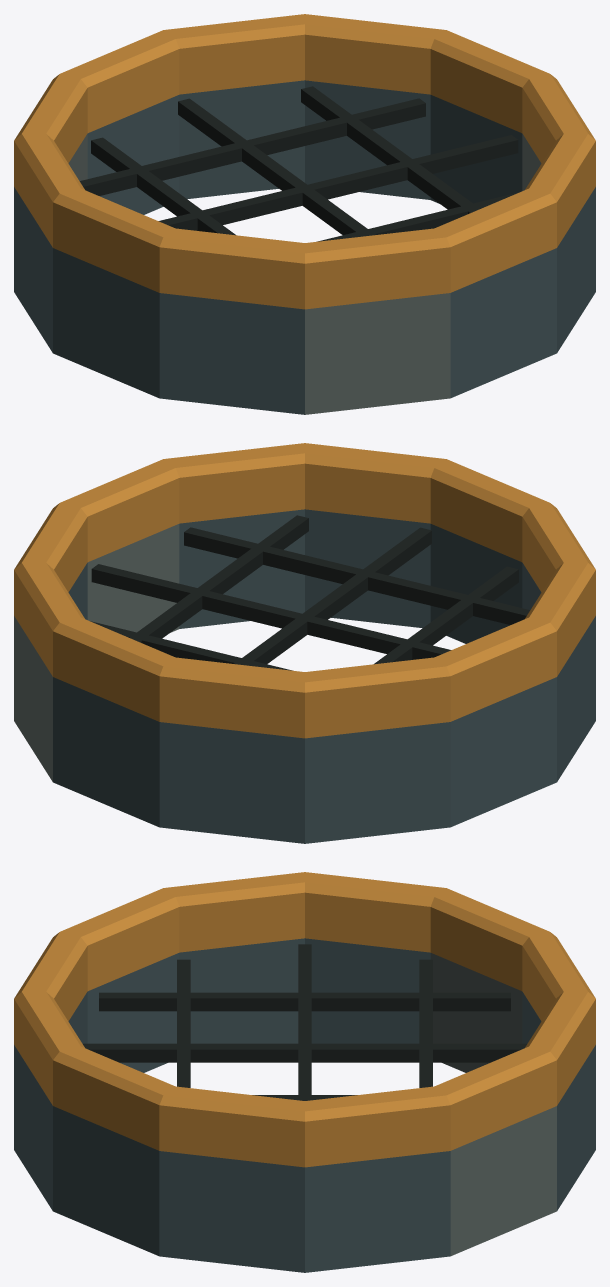
The model's file is thermal_vent.glb.
3 views of the same model, one above another, from view 1: azimuth 30°, elevation 25°; view 2: azimuth 150°, elevation 25°; view 3: azimuth 270°, elevation 25° (orthographic).
Visible parts, largest first — view 1: Hardware; view 2: Hardware; view 3: Hardware.
Boxes of the visible parts, x1,y1,x2,y2 form: Hardware: [14, 14, 595, 414]; Hardware: [14, 443, 595, 843]; Hardware: [14, 872, 595, 1272].
Bounding box in the file's own units: 6 × 1.8 × 6.
